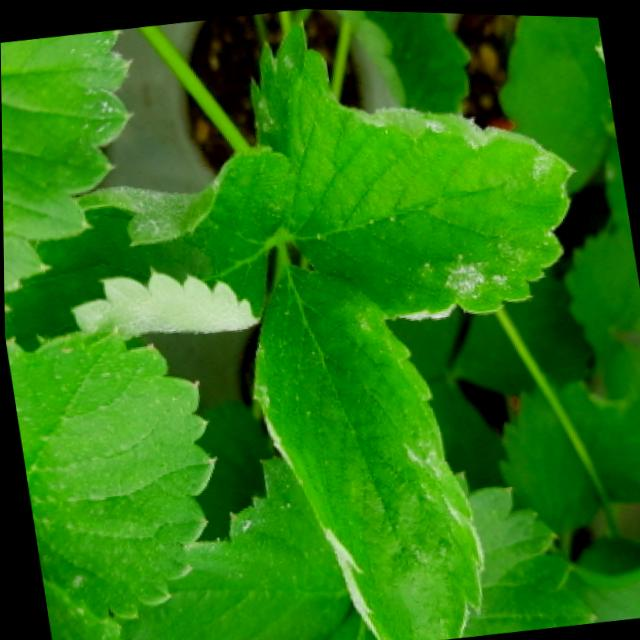Powdery Mildew Leaf: (248, 18, 574, 318), (251, 262, 485, 640), (3, 143, 294, 348), (0, 28, 134, 292)
